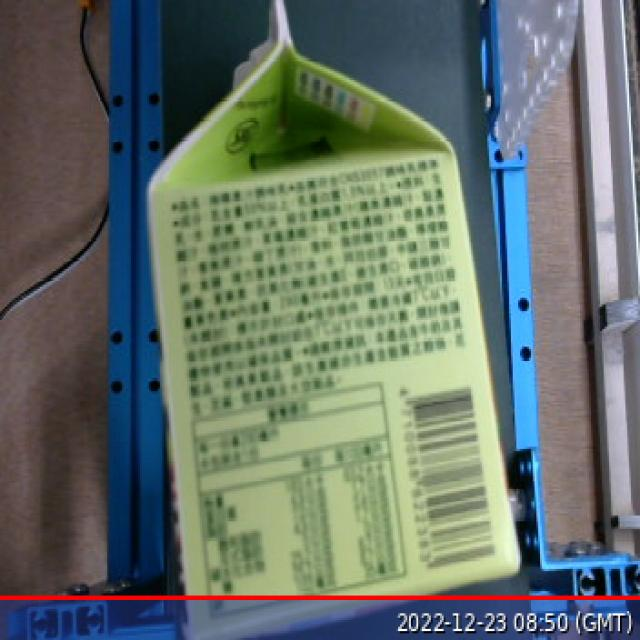non_white_jug: (134, 3, 543, 640)
